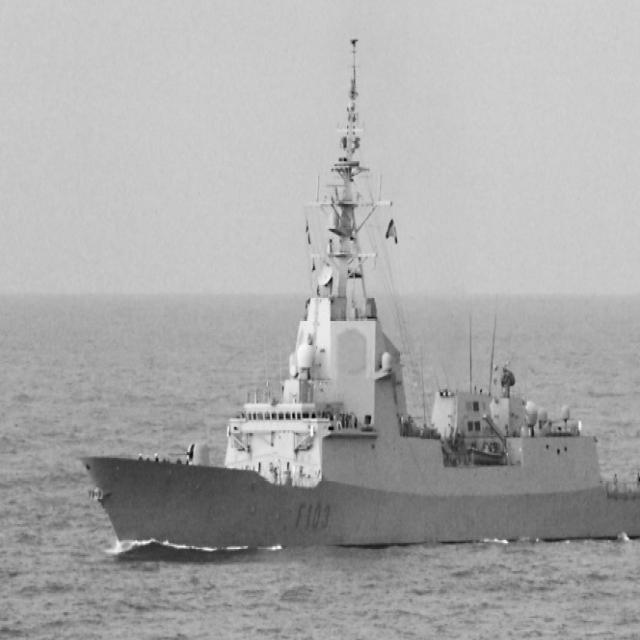Fragata: (79, 36, 640, 559)
